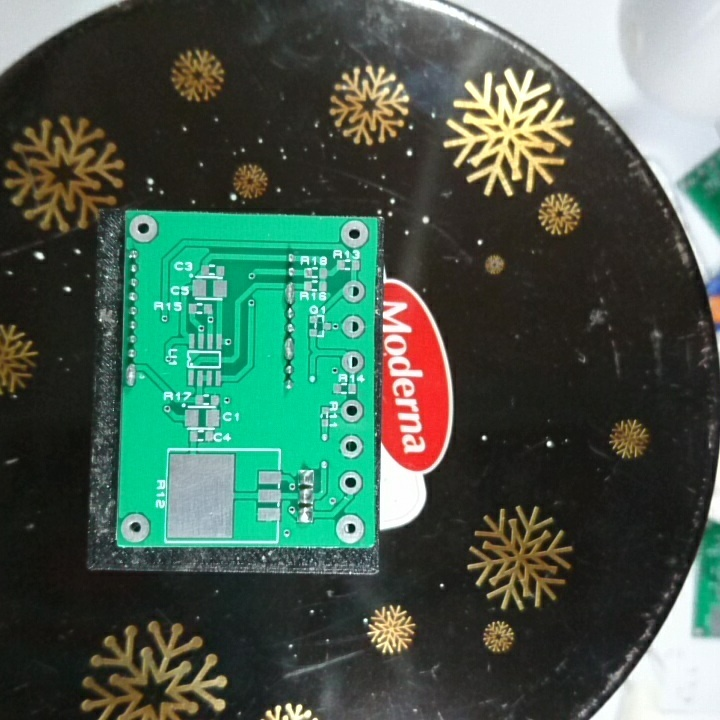F: (124, 211, 160, 245), (119, 511, 151, 545), (334, 512, 365, 546), (339, 218, 370, 249), (337, 432, 365, 461), (336, 470, 363, 497), (342, 277, 367, 306), (339, 348, 365, 375), (339, 315, 367, 340), (339, 397, 364, 424)
P: (281, 335, 297, 362), (123, 361, 137, 389), (282, 281, 297, 306)
